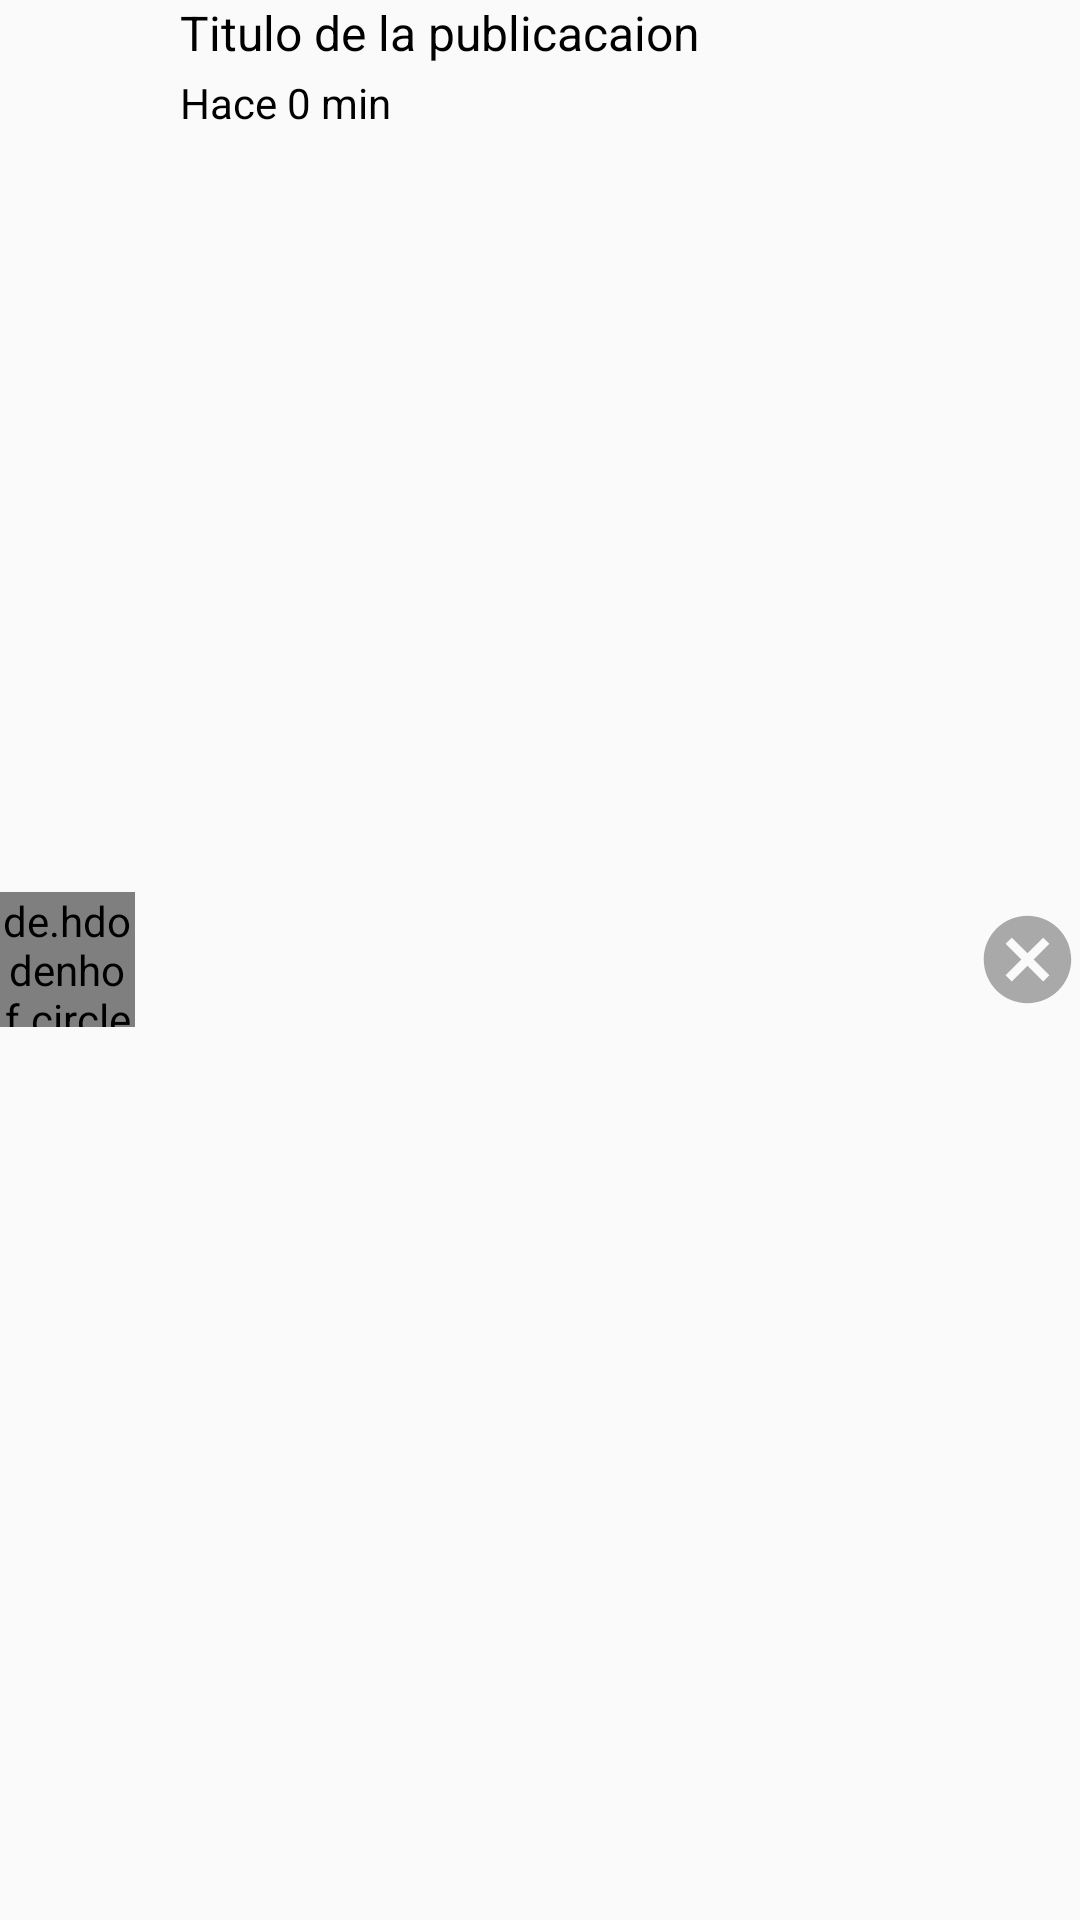

Icons on this 1080px x 1920px Android screen, each with the point to tap as (x=x, y=y):
cancel: (x=1027, y=959)
